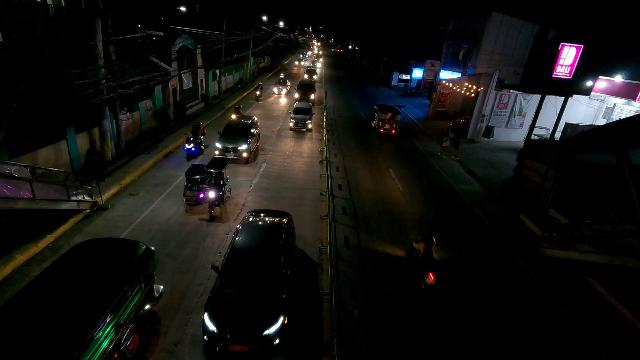car: (195, 205, 301, 356), (216, 115, 262, 160), (286, 101, 315, 133), (295, 78, 318, 105), (272, 78, 290, 97), (304, 66, 319, 79), (294, 58, 304, 68), (300, 52, 308, 59)
jeepney: (370, 102, 402, 137)
motorcycle: (184, 122, 207, 160), (252, 87, 264, 102), (233, 104, 243, 117), (279, 68, 286, 79)
